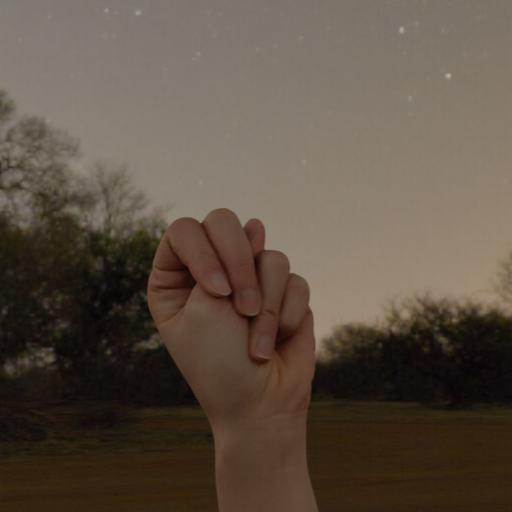N: (132, 196, 347, 464)
